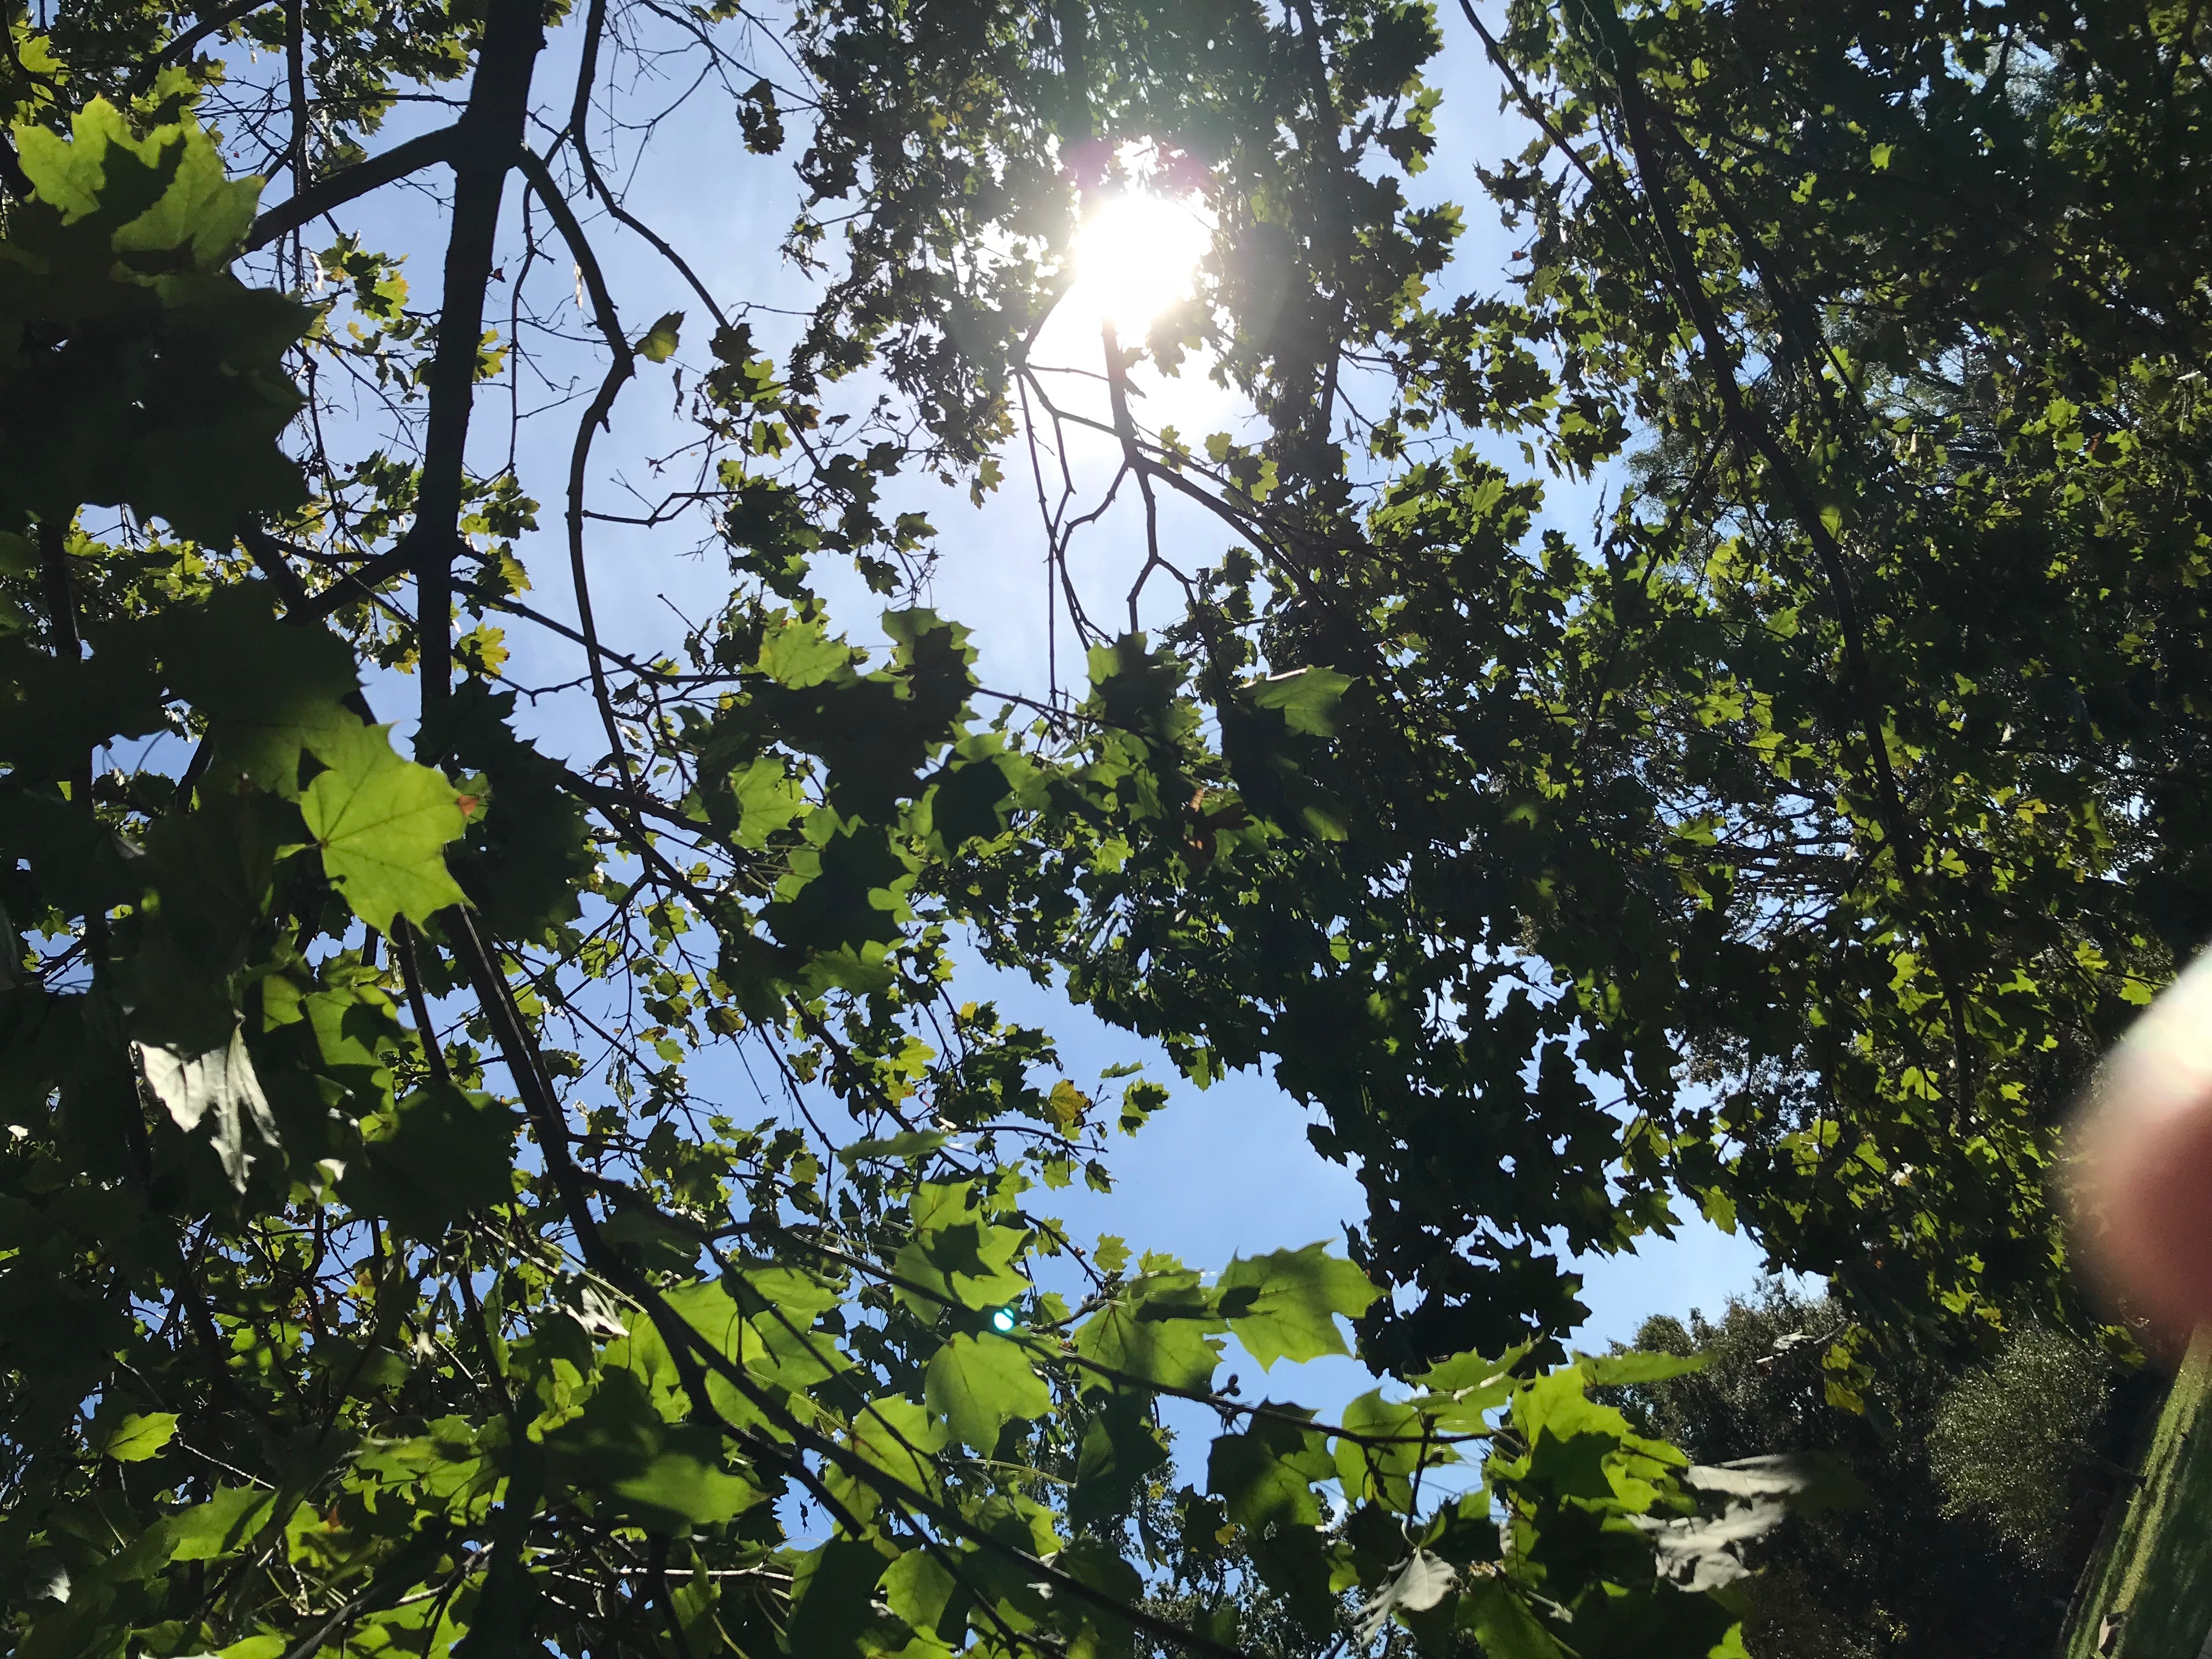flare: (993, 1307, 1017, 1331)
